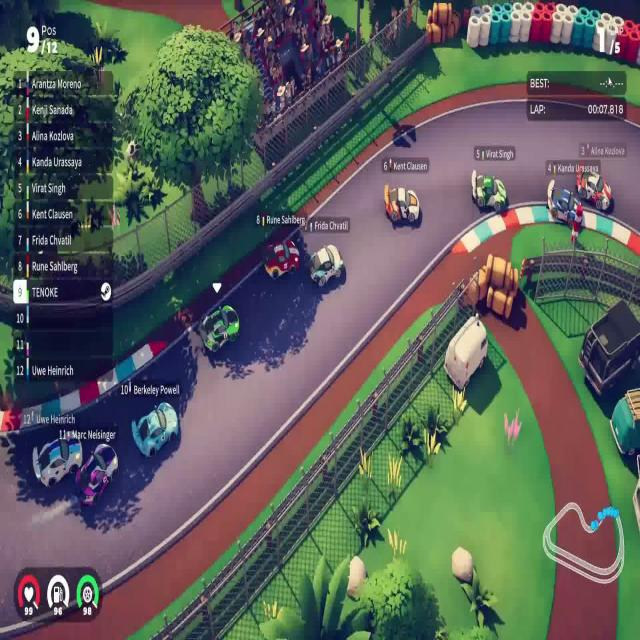car: (31, 428, 83, 489), (75, 441, 119, 508), (131, 400, 179, 458), (198, 302, 240, 355), (575, 164, 614, 214), (470, 168, 507, 214), (383, 182, 420, 227), (308, 242, 344, 288), (263, 237, 300, 280), (549, 185, 582, 228)
